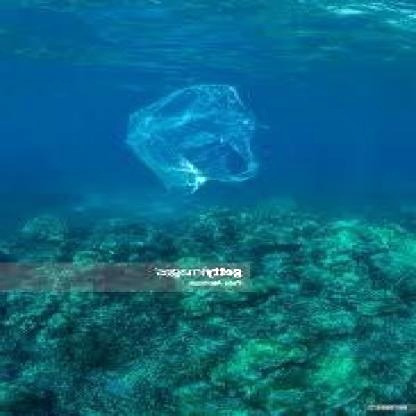pbag: (123, 83, 259, 195)
